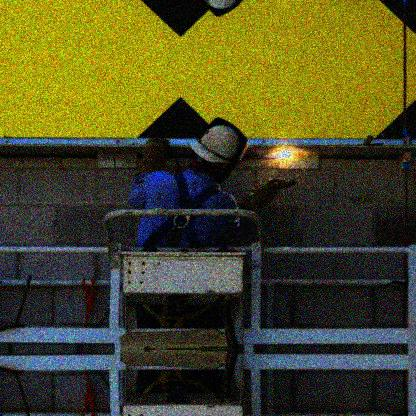helmet: (189, 121, 249, 184)
